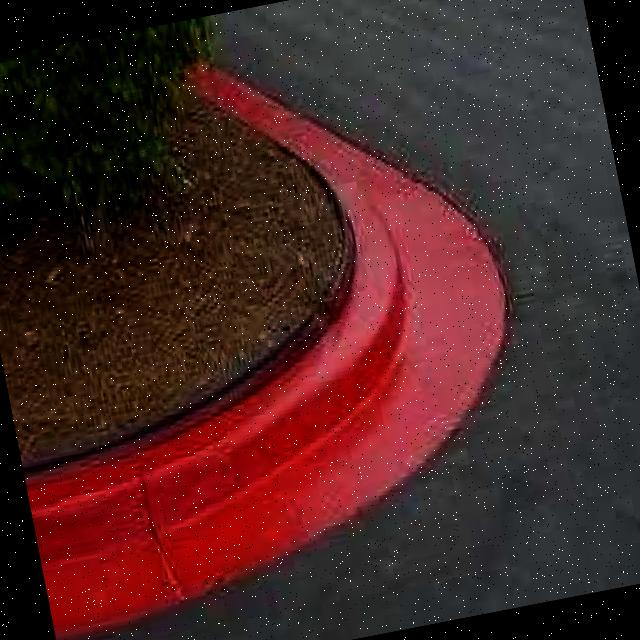curb: (24, 422, 277, 539), (335, 190, 425, 374), (284, 333, 432, 434), (224, 380, 372, 467)
